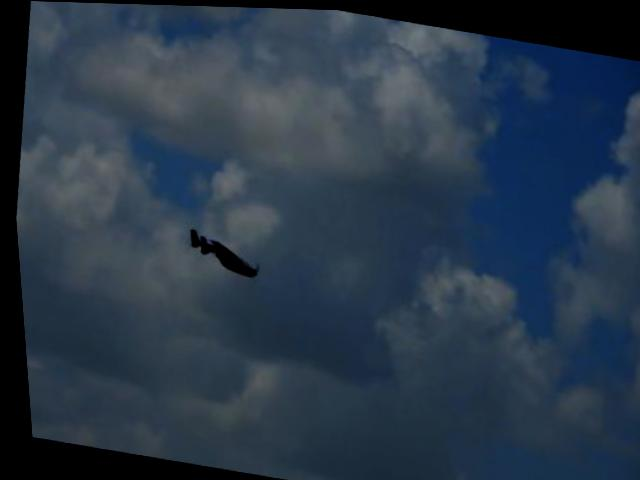uav: (179, 225, 261, 281)
